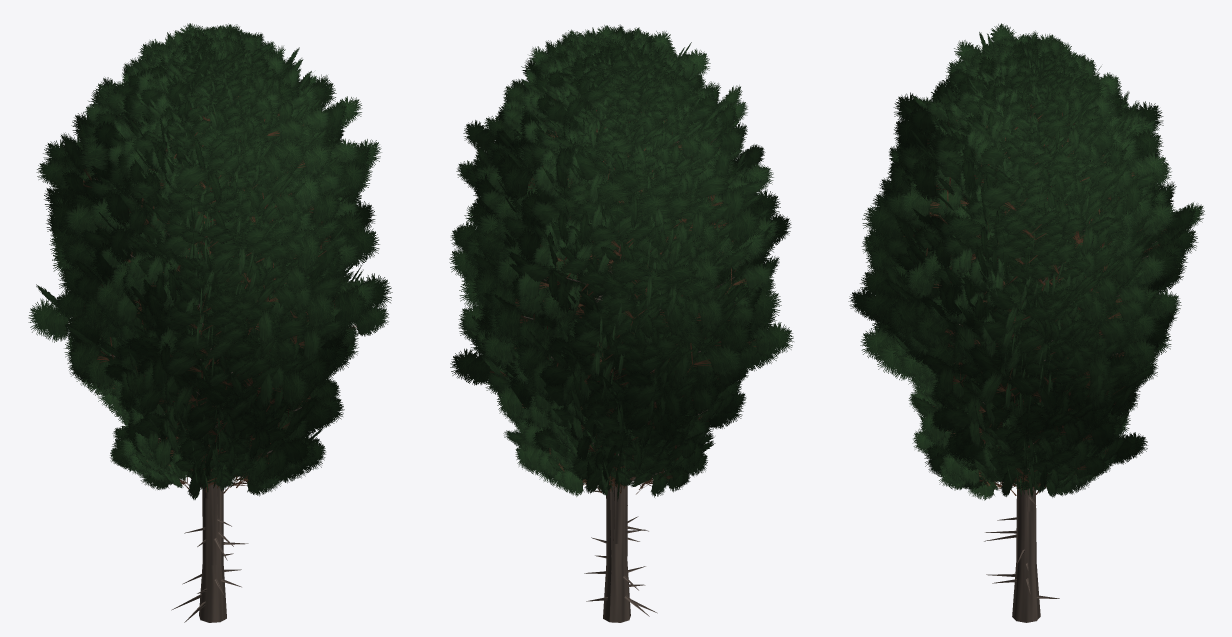
File: tree_cedar.glb
3 views of the same model, side by side, from view 1: azimuth 30°, elevation 25°; view 2: azimuth 150°, elevation 25°; view 3: azimuth 270°, elevation 25° (orthographic).
Visible parts, largest first — view 1: V1_LOD0, V4_LOD0, V0_LOD0, V2_LOD0, V6_LOD0, V5_LOD0, V3_LOD0, V7_LOD0; view 2: V0_LOD0, V5_LOD0, V1_LOD0, V2_LOD0, V7_LOD0, V4_LOD0, V6_LOD0, V3_LOD0; view 3: V4_LOD0, V5_LOD0, V0_LOD0, V7_LOD0, V2_LOD0, V1_LOD0, V3_LOD0, V6_LOD0.
Part boxes in pixels (left/top/right/bottom): V1_LOD0: left=64, top=26, right=362, bottom=622; V4_LOD0: left=62, top=32, right=388, bottom=621; V0_LOD0: left=36, top=25, right=381, bottom=622; V2_LOD0: left=43, top=23, right=379, bottom=622; V6_LOD0: left=48, top=25, right=378, bottom=622; V5_LOD0: left=28, top=23, right=371, bottom=621; V3_LOD0: left=52, top=27, right=392, bottom=622; V7_LOD0: left=49, top=24, right=373, bottom=622; V0_LOD0: left=449, top=33, right=793, bottom=622; V5_LOD0: left=458, top=25, right=774, bottom=621; V1_LOD0: left=471, top=29, right=779, bottom=622; V2_LOD0: left=450, top=32, right=791, bottom=622; V7_LOD0: left=463, top=24, right=775, bottom=621; V4_LOD0: left=456, top=29, right=773, bottom=621; V6_LOD0: left=473, top=27, right=781, bottom=622; V3_LOD0: left=454, top=30, right=779, bottom=622; V4_LOD0: left=848, top=23, right=1168, bottom=622; V5_LOD0: left=862, top=41, right=1186, bottom=622; V0_LOD0: left=866, top=38, right=1171, bottom=622; V7_LOD0: left=861, top=44, right=1171, bottom=622; V2_LOD0: left=866, top=37, right=1198, bottom=622; V1_LOD0: left=860, top=39, right=1204, bottom=620; V3_LOD0: left=868, top=30, right=1178, bottom=620; V6_LOD0: left=860, top=37, right=1184, bottom=620.
Size of what is drawn, in the model's own units: 12.78 by 21.3 by 12.62.
2 materials, 2 textured.
